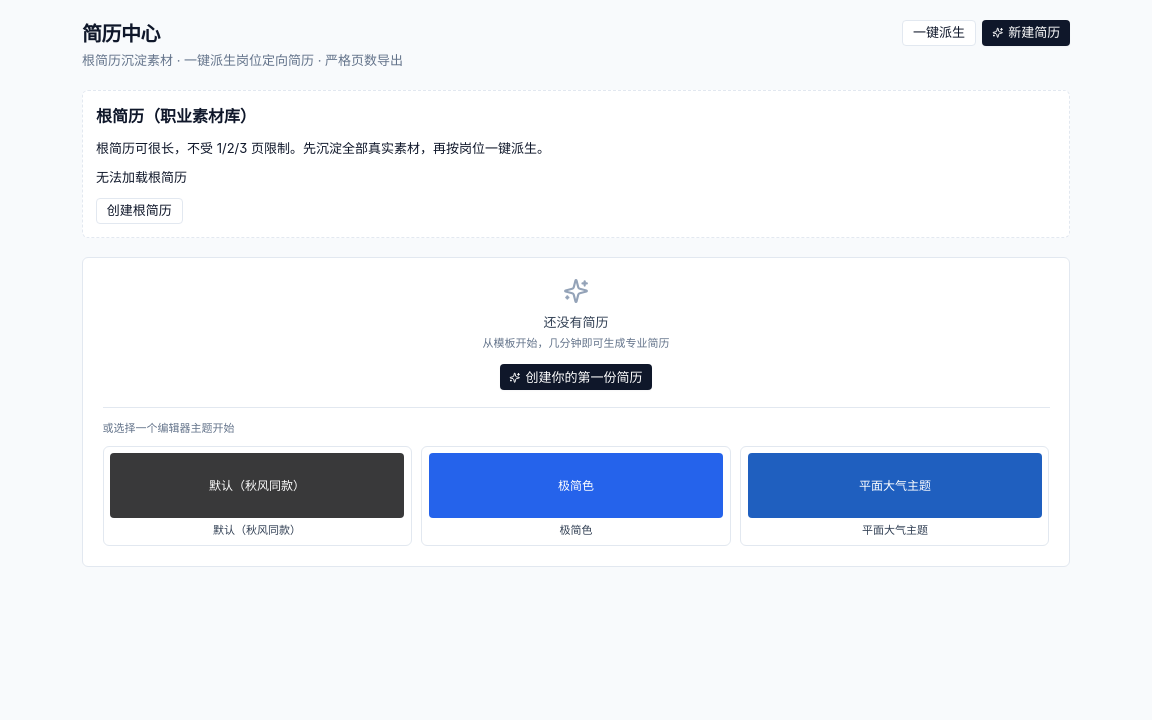
Test: US5 T041 — ResumeList empty-state (036 Phase B) › 点 CTA → 打开 Template Gallery modal
Click the button with test id "empty-state-cta". click: (576, 378)
box: [500,364,652,390]
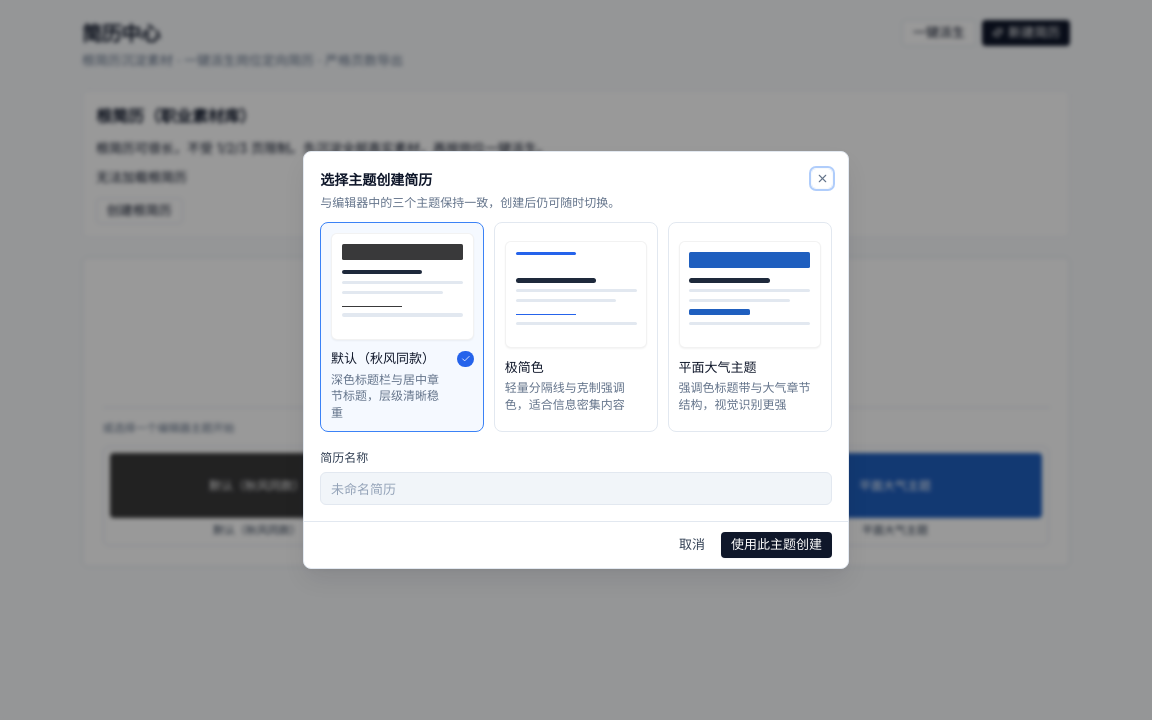
Now the element with test id "template-gallery-grid" is shown, box [320,222,832,432]
